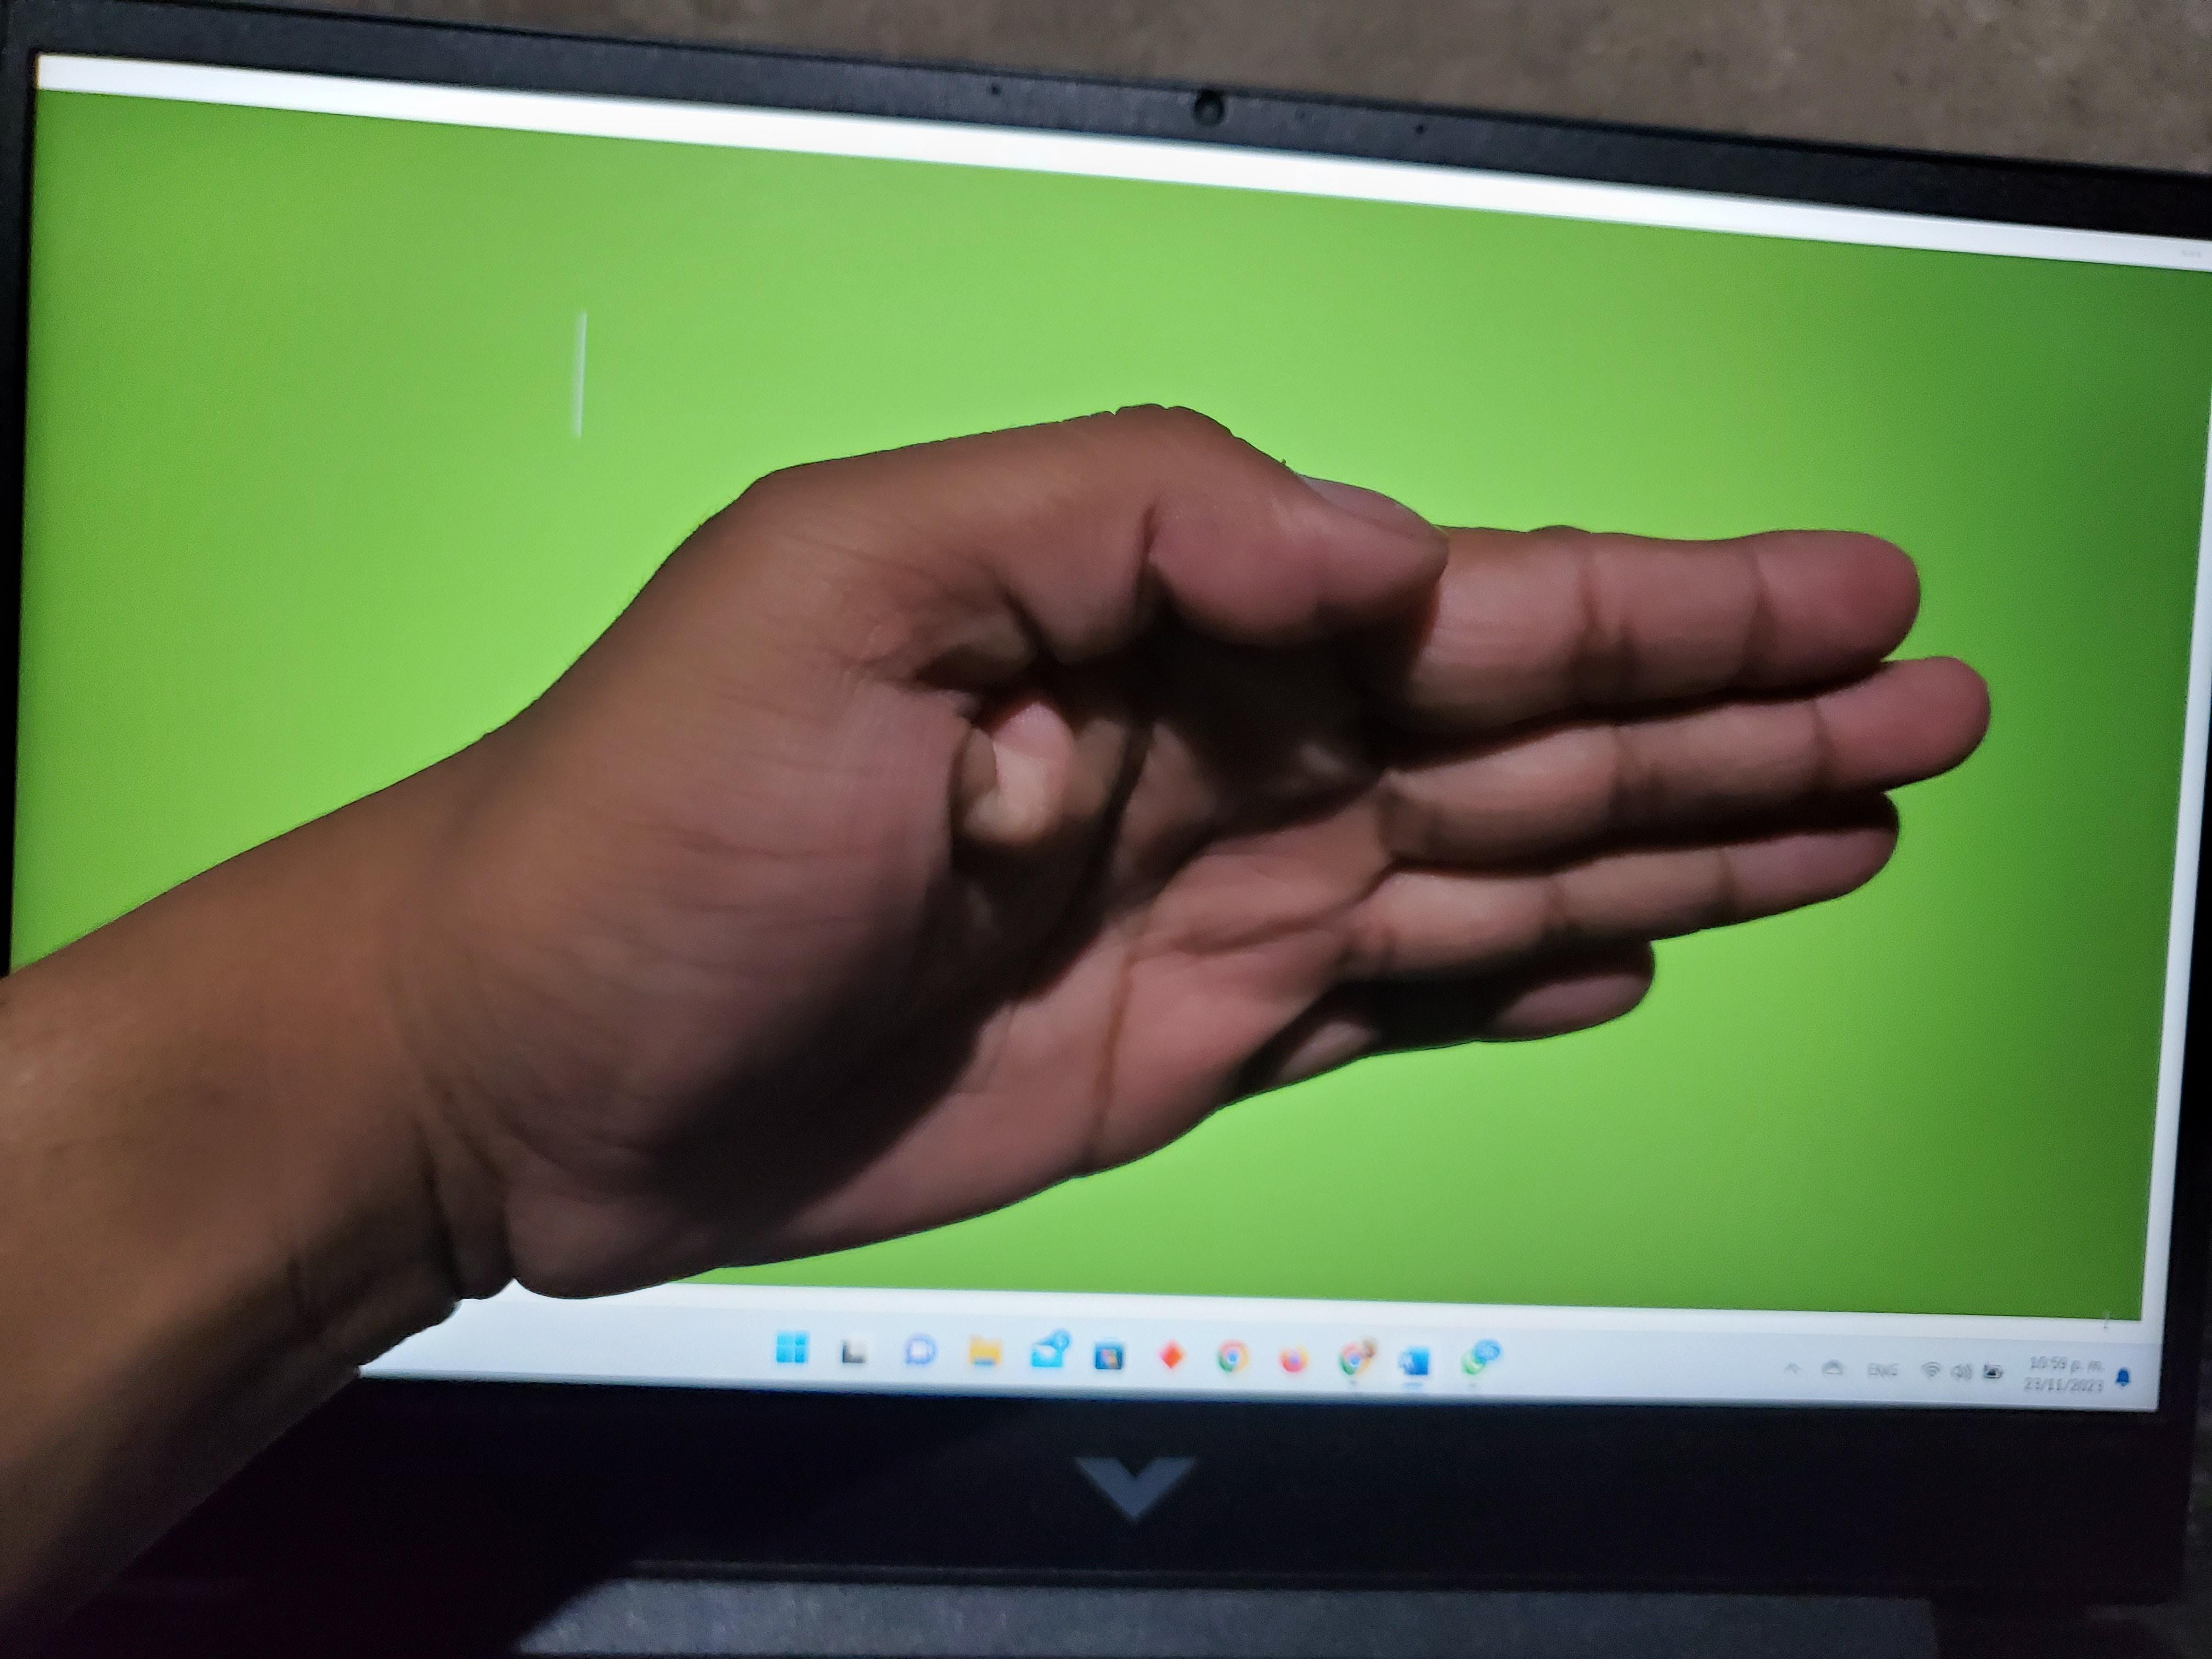Paper: (73, 112, 2163, 1422)
